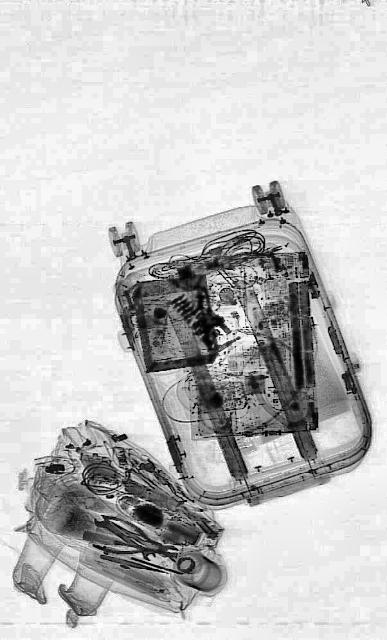Pliers: (91, 510, 180, 572)
Wrench: (92, 508, 158, 566)
